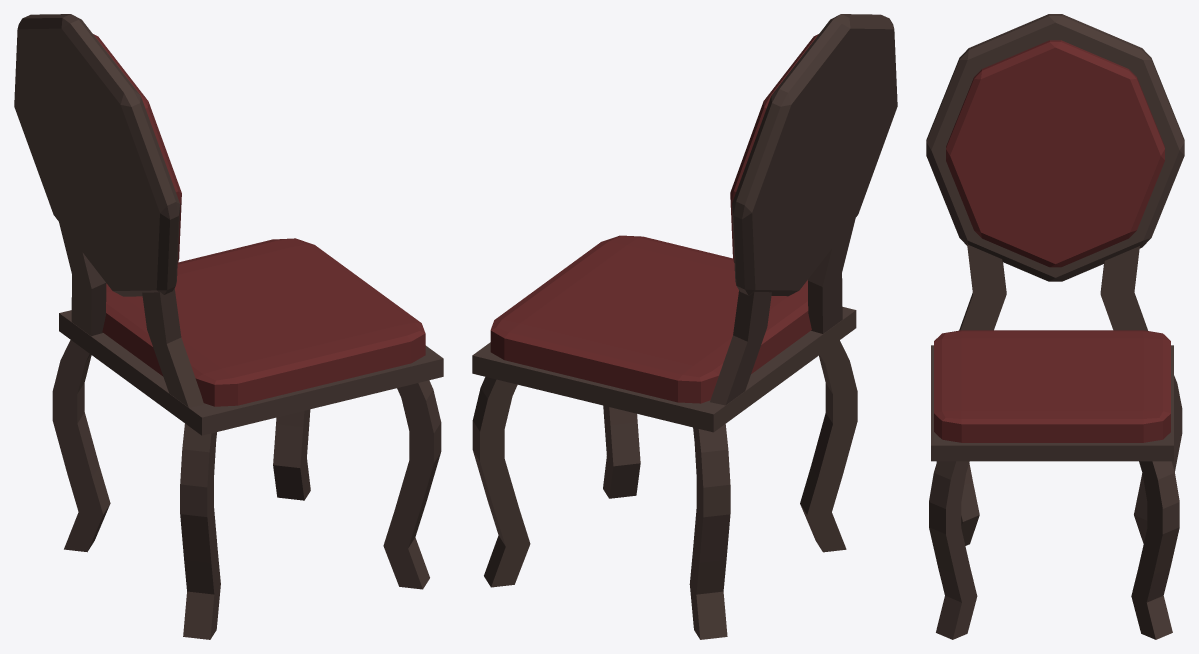
File: Chair1.fbx
3 renders of one model, left to right at view 1: azimuth 30°, elevation 25°; view 2: azimuth 150°, elevation 25°; view 3: azimuth 270°, elevation 25°, orthographic. The views are drawn at different scales.
Visible parts, largest first — view 1: Cube.008, topwood, Cube, Cube.004, Cube.001, Cube.003, Cube.005, Cube.002, Cube.006, topwood.001; view 2: Cube.008, topwood, Cube, Cube.003, Cube.002, Cube.004, Cube.006, Cube.001, Cube.005, topwood.001; view 3: topwood.001, Cube.008, topwood, Cube.001, Cube.002, Cube, Cube.005, Cube.006, Cube.003, Cube.004.
Boxes of the visible parts, left/top/right/bottom form: Cube.008: left=102, top=238, right=425, bottom=406; topwood: left=14, top=14, right=180, bottom=296; Cube: left=59, top=310, right=443, bottom=435; Cube.004: left=180, top=423, right=220, bottom=639; Cube.001: left=383, top=380, right=441, bottom=589; Cube.003: left=52, top=339, right=110, bottom=552; Cube.005: left=142, top=288, right=204, bottom=407; Cube.002: left=273, top=409, right=310, bottom=500; Cube.006: left=59, top=222, right=106, bottom=336; topwood.001: left=93, top=34, right=181, bottom=263; Cube.008: left=490, top=235, right=811, bottom=403; topwood: left=732, top=14, right=897, bottom=296; Cube: left=472, top=306, right=856, bottom=432; Cube.003: left=689, top=423, right=730, bottom=639; Cube.002: left=472, top=377, right=530, bottom=587; Cube.004: left=800, top=340, right=857, bottom=552; Cube.006: left=710, top=290, right=771, bottom=405; Cube.001: left=603, top=405, right=640, bottom=498; Cube.005: left=808, top=218, right=855, bottom=333; topwood.001: left=730, top=34, right=818, bottom=262; topwood.001: left=946, top=40, right=1164, bottom=267; Cube.008: left=934, top=330, right=1170, bottom=442; topwood: left=926, top=14, right=1184, bottom=281; Cube.001: left=929, top=461, right=977, bottom=639; Cube.002: left=1131, top=461, right=1179, bottom=639; Cube: left=931, top=345, right=1173, bottom=461; Cube.005: left=959, top=244, right=1006, bottom=330; Cube.006: left=1100, top=246, right=1147, bottom=330; Cube.003: left=1134, top=375, right=1182, bottom=543; Cube.004: left=936, top=461, right=979, bottom=545.
Size of the model in its own units: 229 by 409 by 191.
